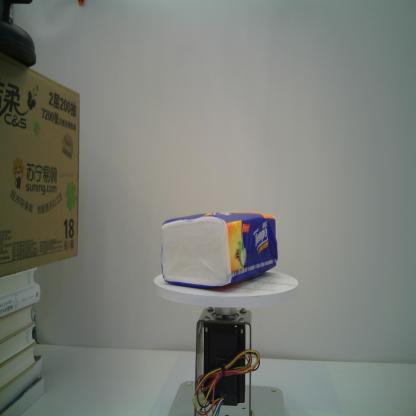Tissue: (158, 208, 279, 290)
